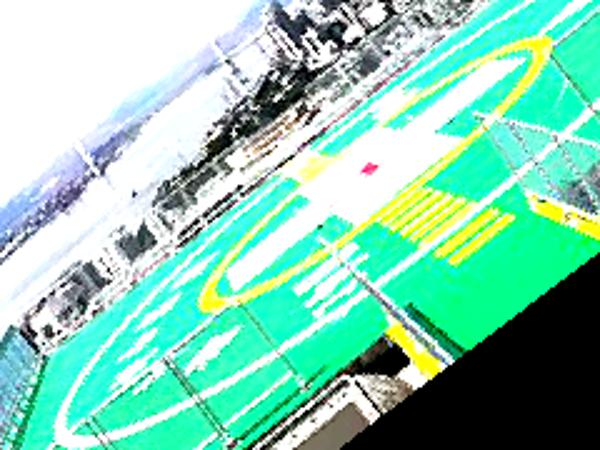Apron: (186, 26, 559, 318)
